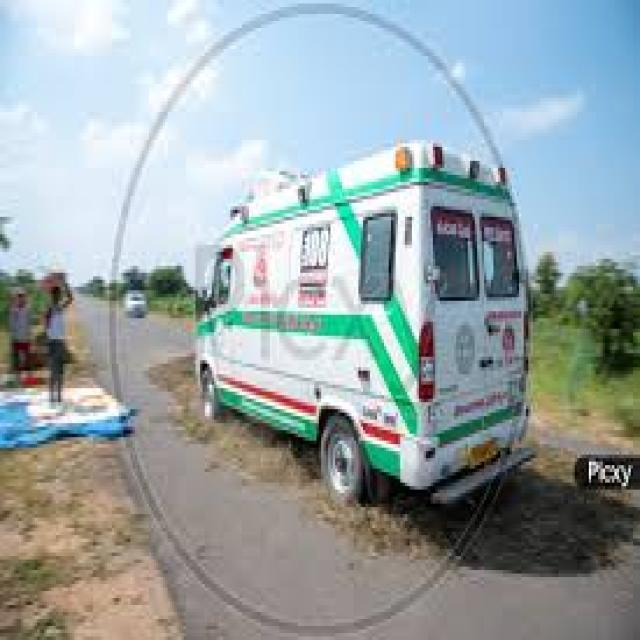ambulance: (195, 145, 537, 516)
